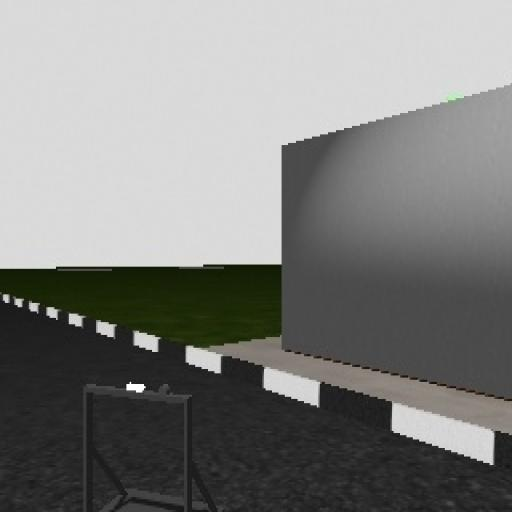huskya200: (72, 367, 232, 512)
